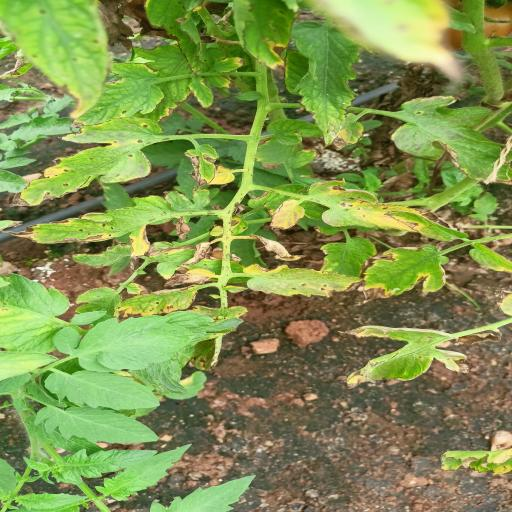Early Blight: (1, 190, 211, 262), (4, 116, 166, 208), (304, 176, 473, 241), (334, 324, 472, 390), (70, 62, 166, 127), (355, 245, 450, 306), (243, 262, 371, 298), (111, 283, 201, 319), (182, 143, 221, 189), (157, 266, 215, 289)
Healthy: (54, 314, 200, 373), (96, 444, 194, 500), (43, 369, 161, 411), (32, 406, 161, 444), (54, 448, 158, 485)
